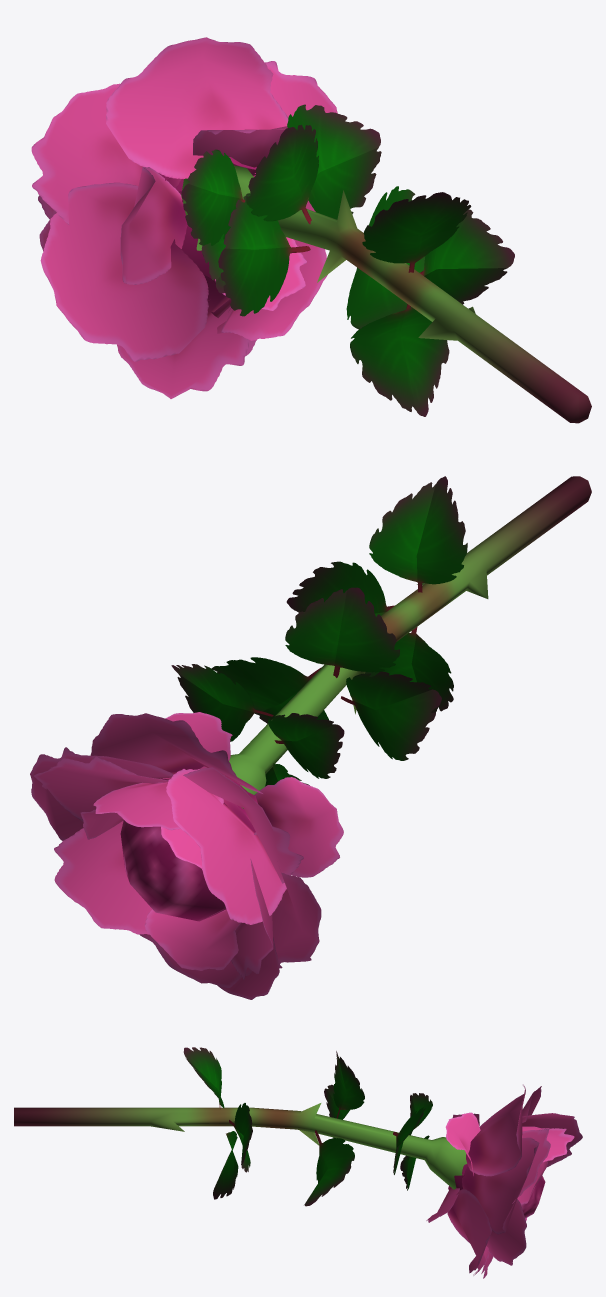
The model's file is SM_Rose_Pink_WideOpen.fbx.
The picture shows the model from 3 angles, top to bottom: view 1: azimuth 30°, elevation 25°; view 2: azimuth 150°, elevation 25°; view 3: azimuth 270°, elevation 25°; orthographic projection. The views are drawn at different scales.
Visible parts, largest first — view 1: Rose_Pink_WideOpen; view 2: Rose_Pink_WideOpen; view 3: Rose_Pink_WideOpen.
Part boxes in pixels (x1,y1,x2,y2): Rose_Pink_WideOpen: [31, 37, 591, 423]; Rose_Pink_WideOpen: [30, 476, 591, 999]; Rose_Pink_WideOpen: [14, 1047, 582, 1278].
Size of the model in its own units: 52.56 by 59.81 by 130.
